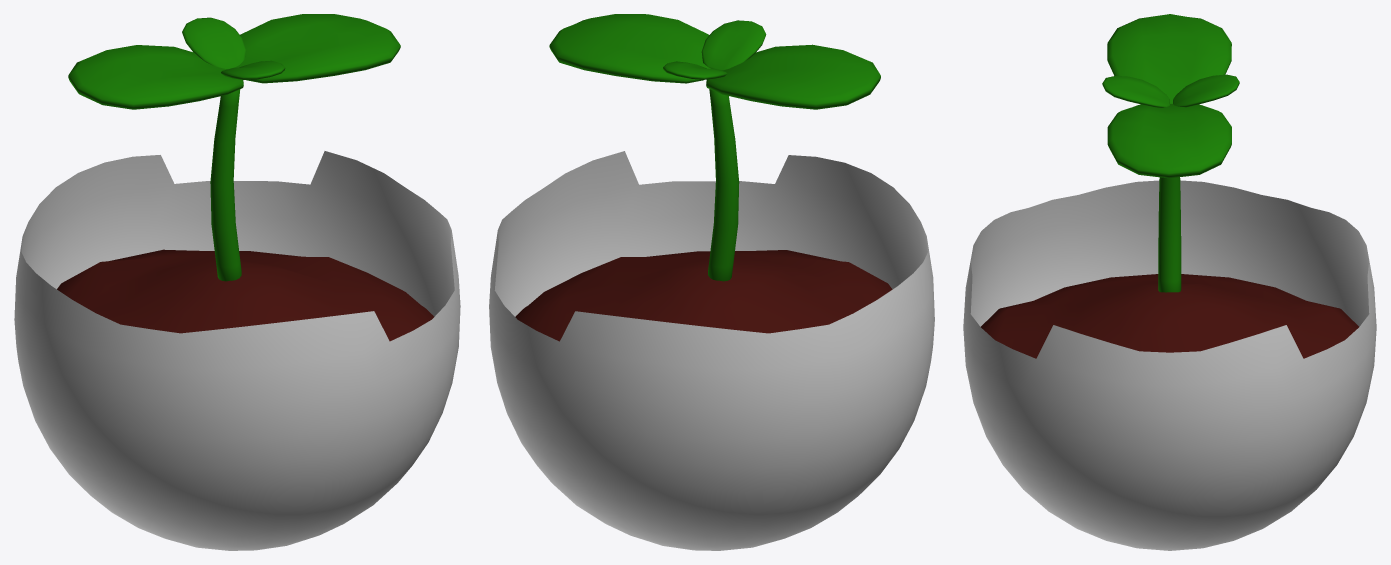
File: homegrowers.glb
3 views of the same model, side by side, from view 1: azimuth 30°, elevation 25°; view 2: azimuth 150°, elevation 25°; view 3: azimuth 270°, elevation 25° (orthographic). The views are drawn at different scales.
Visible parts, largest first — view 1: Cube.003; view 2: Cube.003; view 3: Cube.003.
Part boxes in pixels (x1,y1,x2,y2): Cube.003: (14,14,460,550); Cube.003: (489,14,934,550); Cube.003: (963,14,1376,550).
Bounding box in the file's own units: 0.7782 × 0.9343 × 0.7782.
